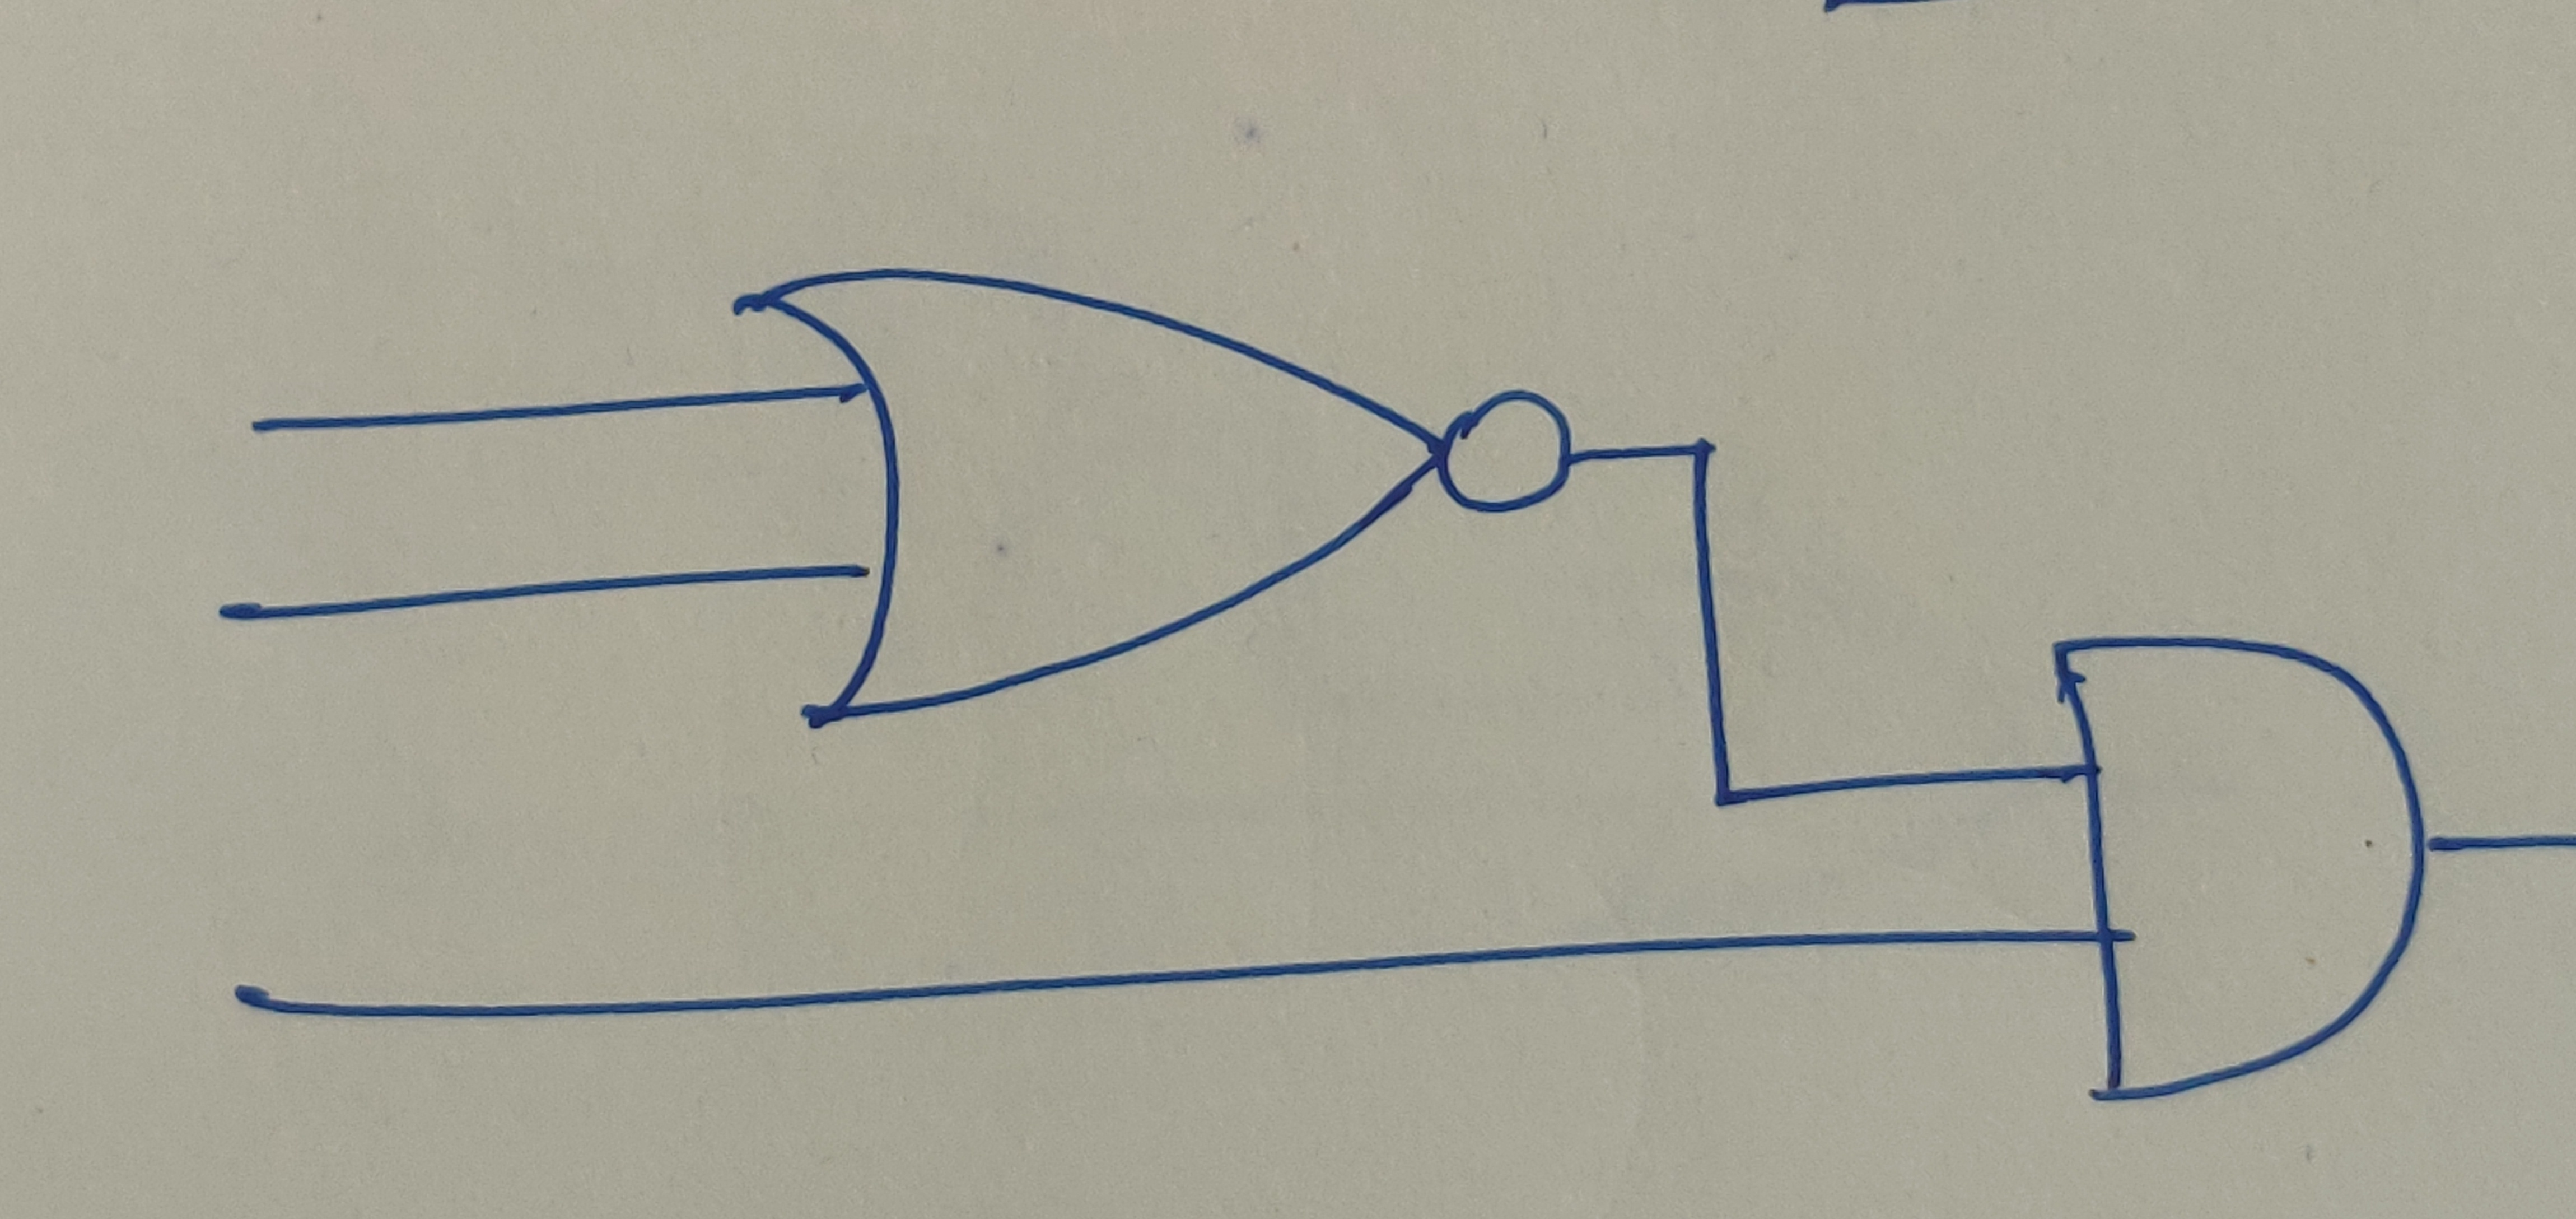and: (2052, 636, 2431, 1117)
not: (1436, 383, 1580, 524)
or: (731, 260, 1446, 734)
